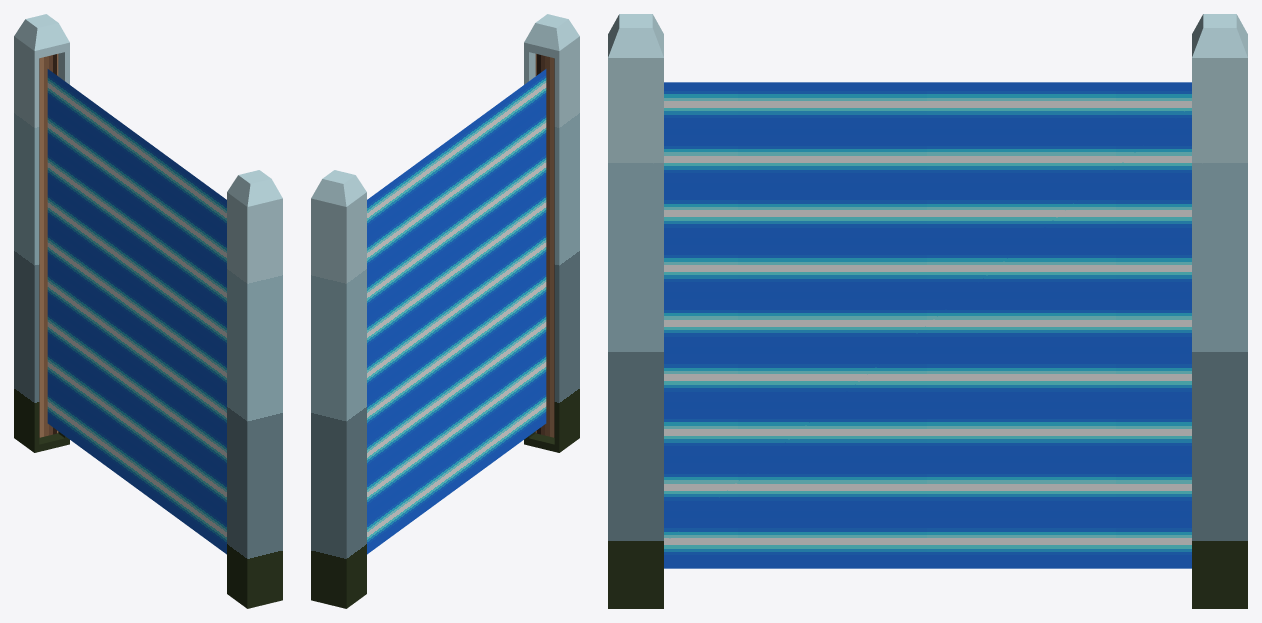
The model's file is LaserWall.glb.
3 renders of one model, left to right at view 1: azimuth 30°, elevation 25°; view 2: azimuth 150°, elevation 25°; view 3: azimuth 270°, elevation 25°, orthographic. The views are drawn at different scales.
Visible parts, largest first — view 1: LaserWall; view 2: LaserWall; view 3: LaserWall.
Boxes of the visible parts, bbox=[...] form: LaserWall: bbox=[14, 14, 282, 608]; LaserWall: bbox=[311, 14, 579, 608]; LaserWall: bbox=[608, 14, 1247, 608].
Size of the model in its own units: 0.2 by 2.27 by 2.28.
2 materials, 2 textured.
